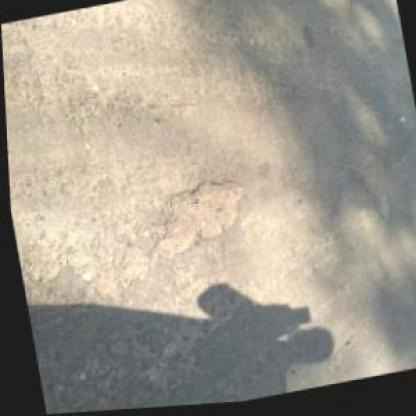pothole: (143, 175, 254, 266)
